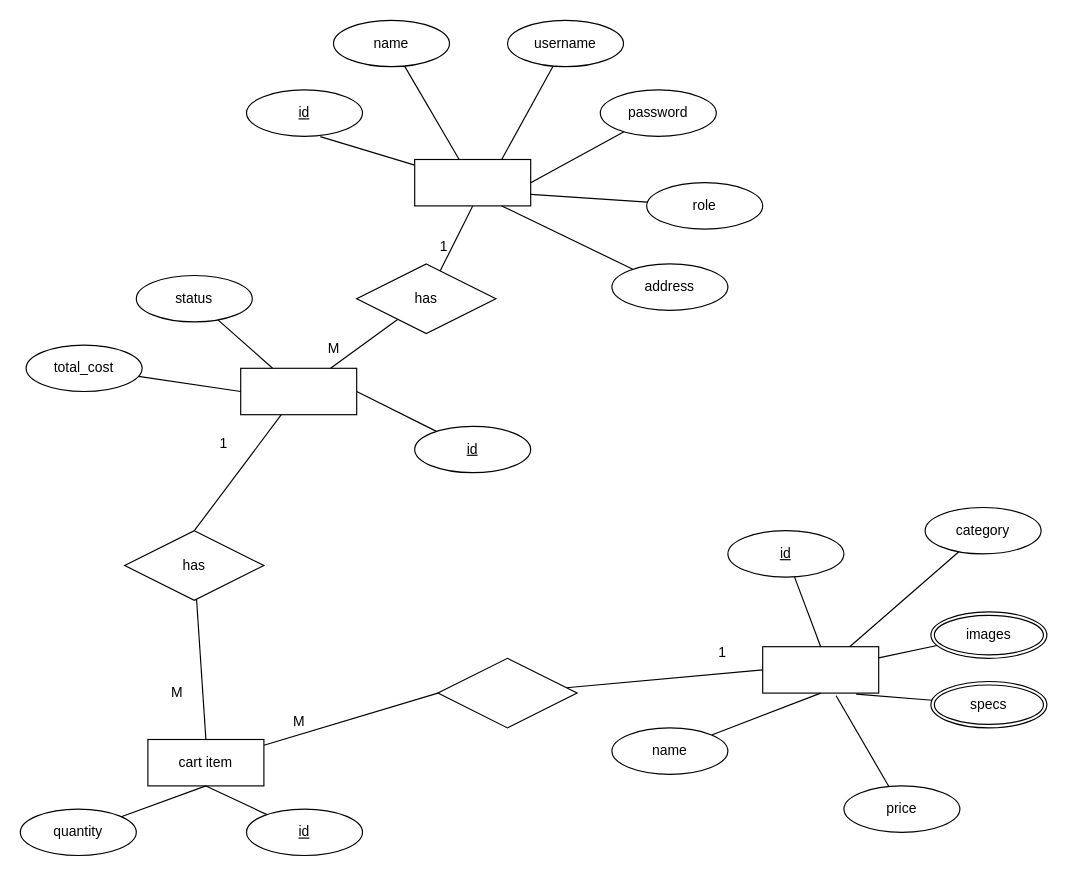
This 1067x876 diagram has some shape labels left out. The shapes that lost their labels are listed below. From the top down, each one's box as (x1, y1, x2, y2) in pixels, then its label:
(414, 158, 531, 206): User
(240, 367, 357, 415): Order
(762, 646, 879, 693): Autopart
(437, 657, 577, 728): associated with
